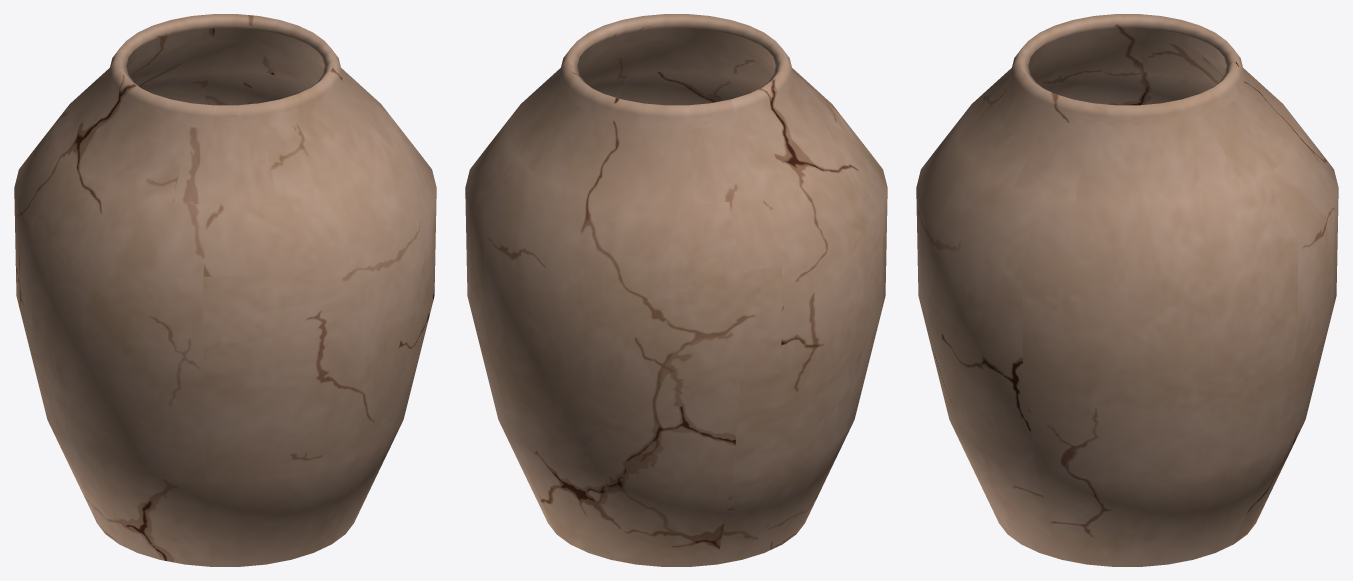
Rendered from Jarrón I.fbx.
The picture shows the model from 3 angles, left to right: view 1: azimuth 30°, elevation 25°; view 2: azimuth 150°, elevation 25°; view 3: azimuth 270°, elevation 25°; orthographic projection.
Visible parts, largest first — view 1: Jarrón I; view 2: Jarrón I; view 3: Jarrón I.
Boxes of the visible parts, x1=… form: Jarrón I: x1=14, y1=14, x2=436, y2=566; Jarrón I: x1=465, y1=14, x2=887, y2=566; Jarrón I: x1=916, y1=14, x2=1338, y2=566.
Size of the model in its own units: 176 by 209 by 177.
Materials: 1 (1 with a texture image).
